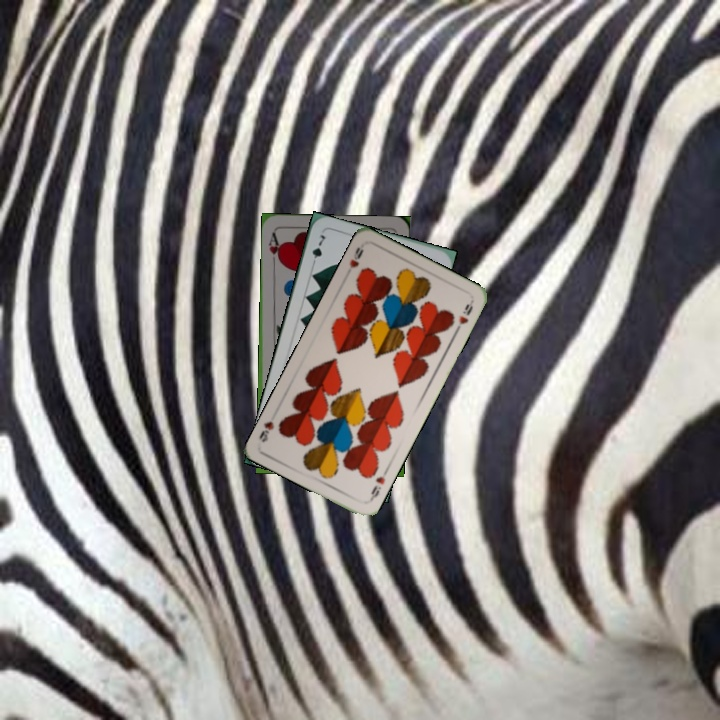G7: (307, 230, 328, 269)
H9: (366, 466, 390, 504), (345, 243, 366, 271)
HA: (265, 228, 284, 269)
